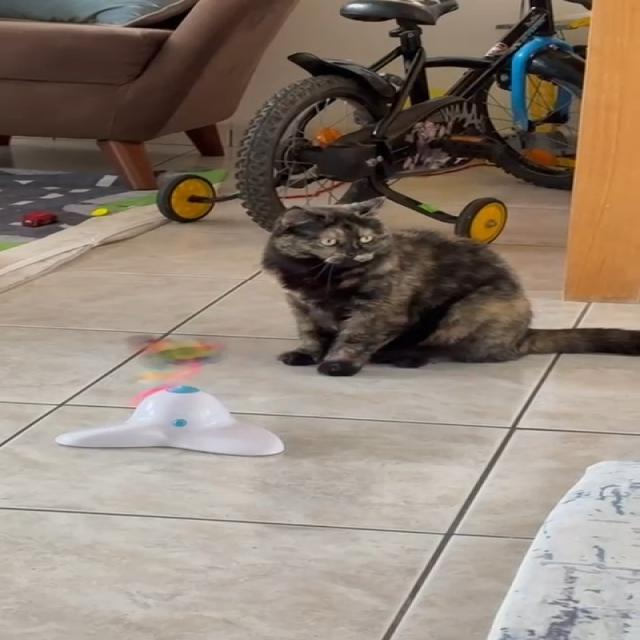authorized: (260, 196, 639, 377)
